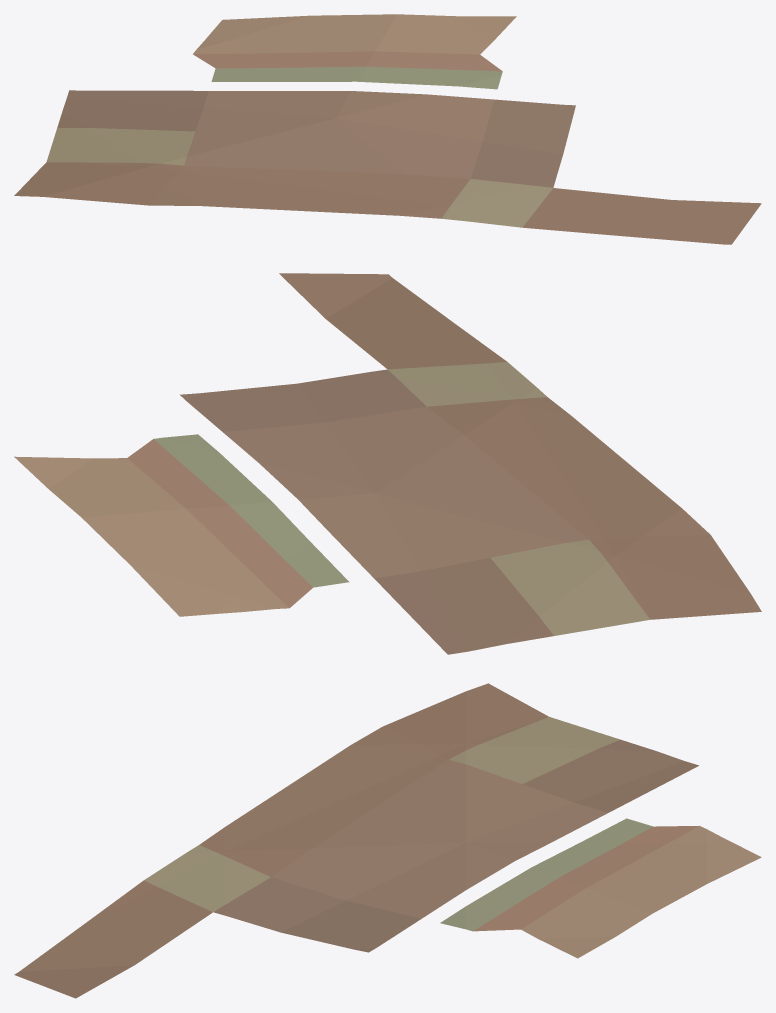
File: farm_-9_1_soil.glb
3 views of the same model, one above another, from view 1: azimuth 30°, elevation 25°; view 2: azimuth 150°, elevation 25°; view 3: azimuth 270°, elevation 25° (orthographic). The views are drawn at different scales.
Parts seen in each view (by area): view 1: geometry_0; view 2: geometry_0; view 3: geometry_0.
Part boxes in pixels (bbox=[...]): geometry_0: bbox=[14, 14, 761, 244]; geometry_0: bbox=[14, 273, 761, 654]; geometry_0: bbox=[14, 683, 761, 998].
Size of the model in its own units: 240 by 13.74 by 248.
